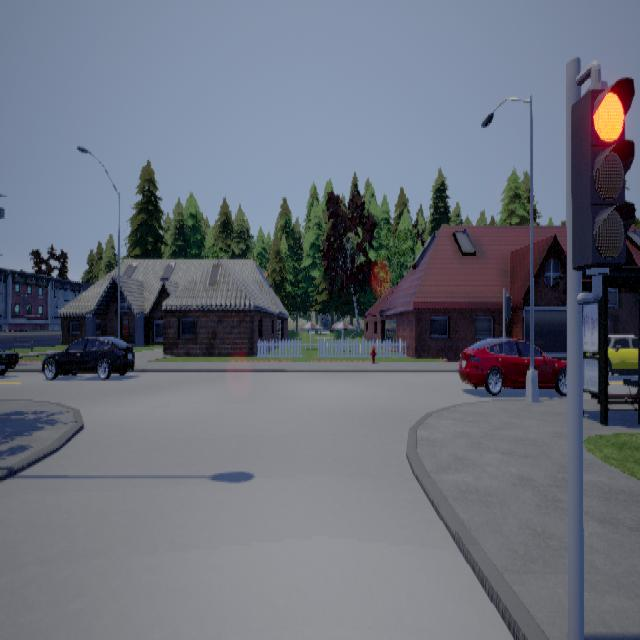red_light: (570, 59, 635, 303)
vehicle: (458, 335, 570, 394), (41, 335, 134, 379), (607, 333, 637, 374)
